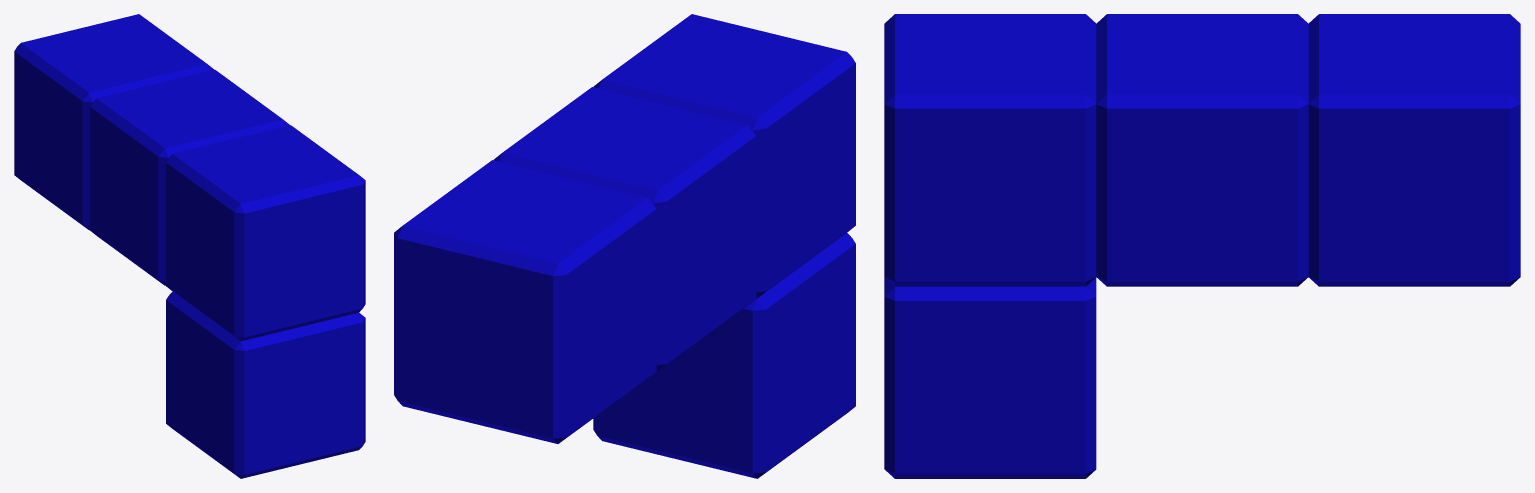
Rendered from L-block.obj.
3 views of the same model, side by side, from view 1: azimuth 30°, elevation 25°; view 2: azimuth 150°, elevation 25°; view 3: azimuth 270°, elevation 25° (orthographic). The views are drawn at different scales.
Parts seen in each view (by area): view 1: L-Block_Cube.017; view 2: L-Block_Cube.017; view 3: L-Block_Cube.017.
Part boxes in pixels (x1,y1,x2,y2): L-Block_Cube.017: (14,14,365,478); L-Block_Cube.017: (394,14,855,478); L-Block_Cube.017: (884,14,1520,478).
Bounding box in the file's own units: 2 × 4 × 6.
